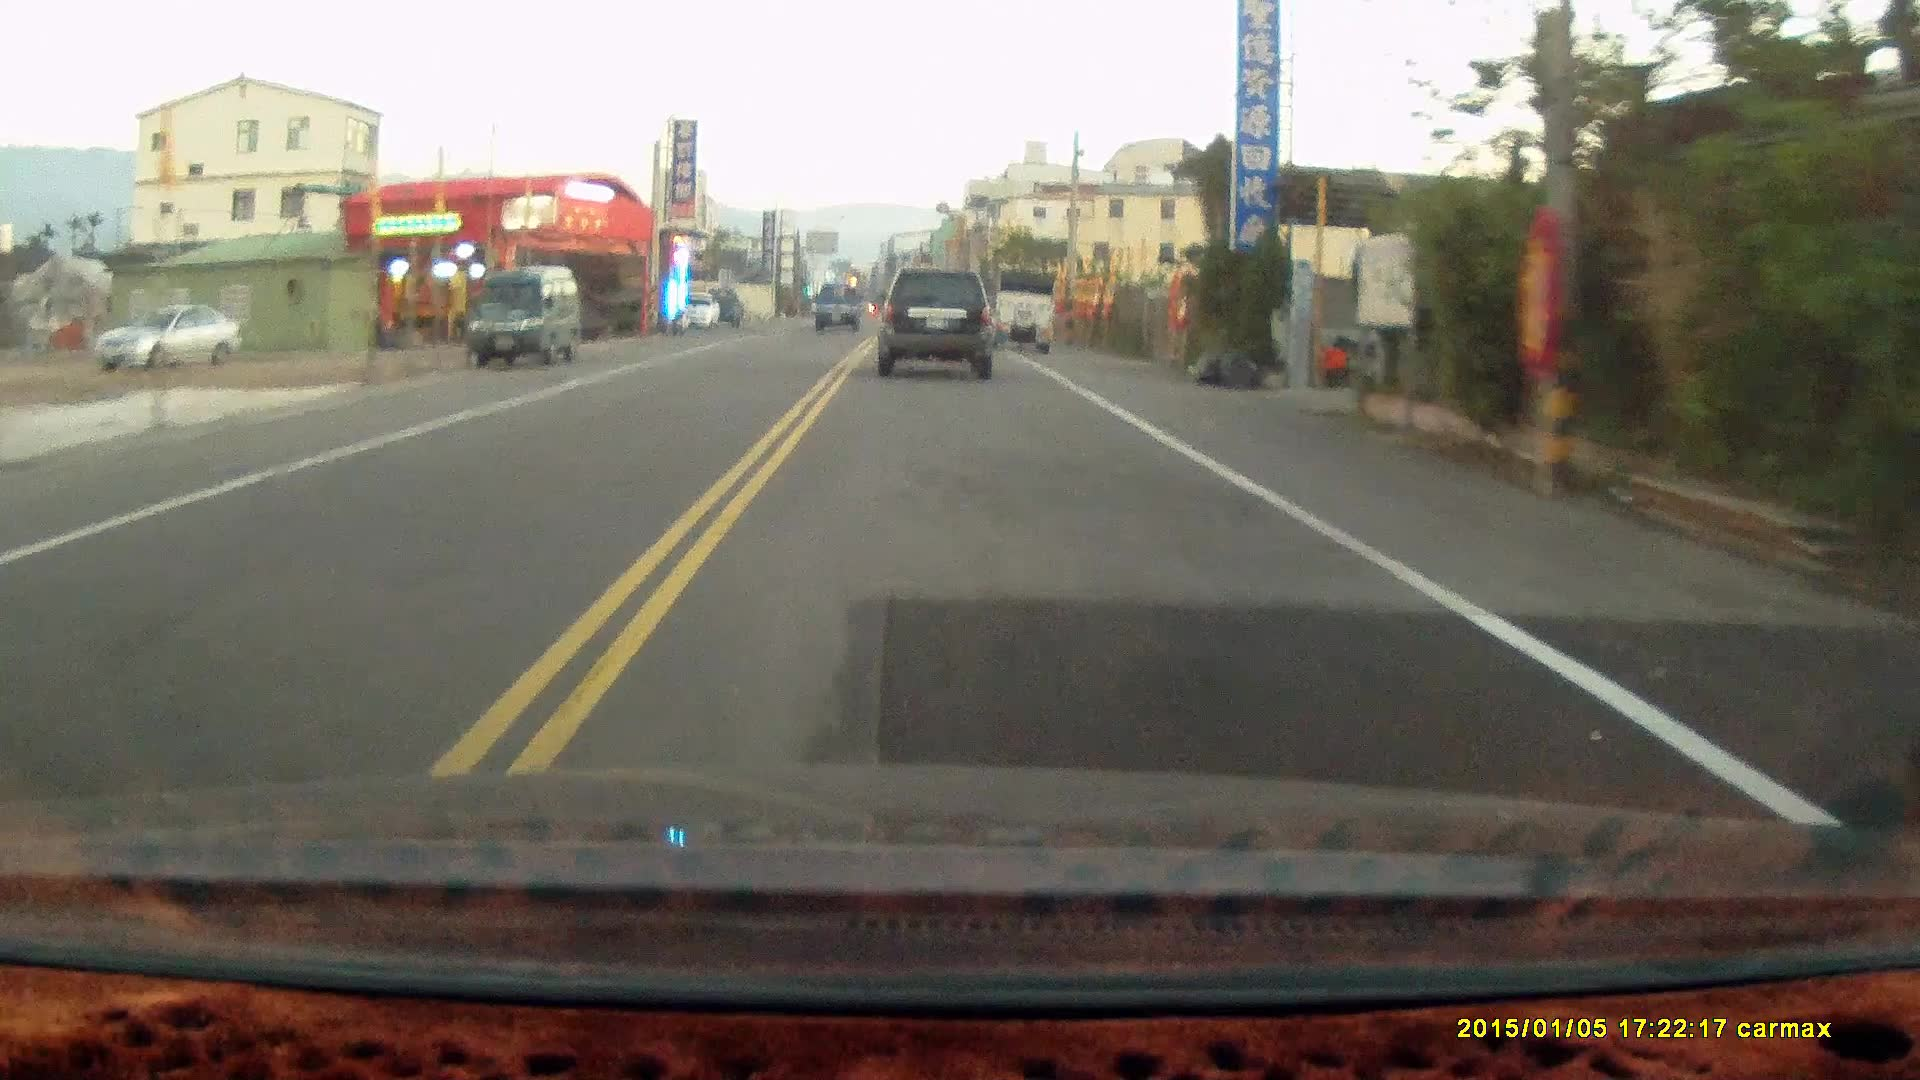vehicle: (869, 266, 1005, 386), (465, 262, 582, 371), (90, 305, 243, 378), (980, 273, 1058, 357), (814, 286, 865, 335)
